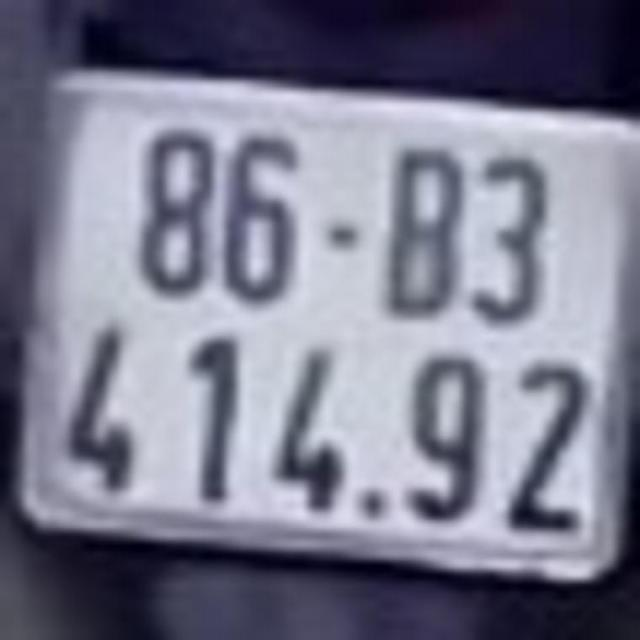1: (188, 332, 238, 503)
2: (505, 354, 592, 533)
3: (469, 142, 554, 334)
4: (65, 320, 144, 489), (273, 338, 346, 514)
6: (219, 130, 301, 308)
8: (139, 122, 213, 296)
9: (405, 346, 486, 525)
B: (379, 130, 463, 322)
